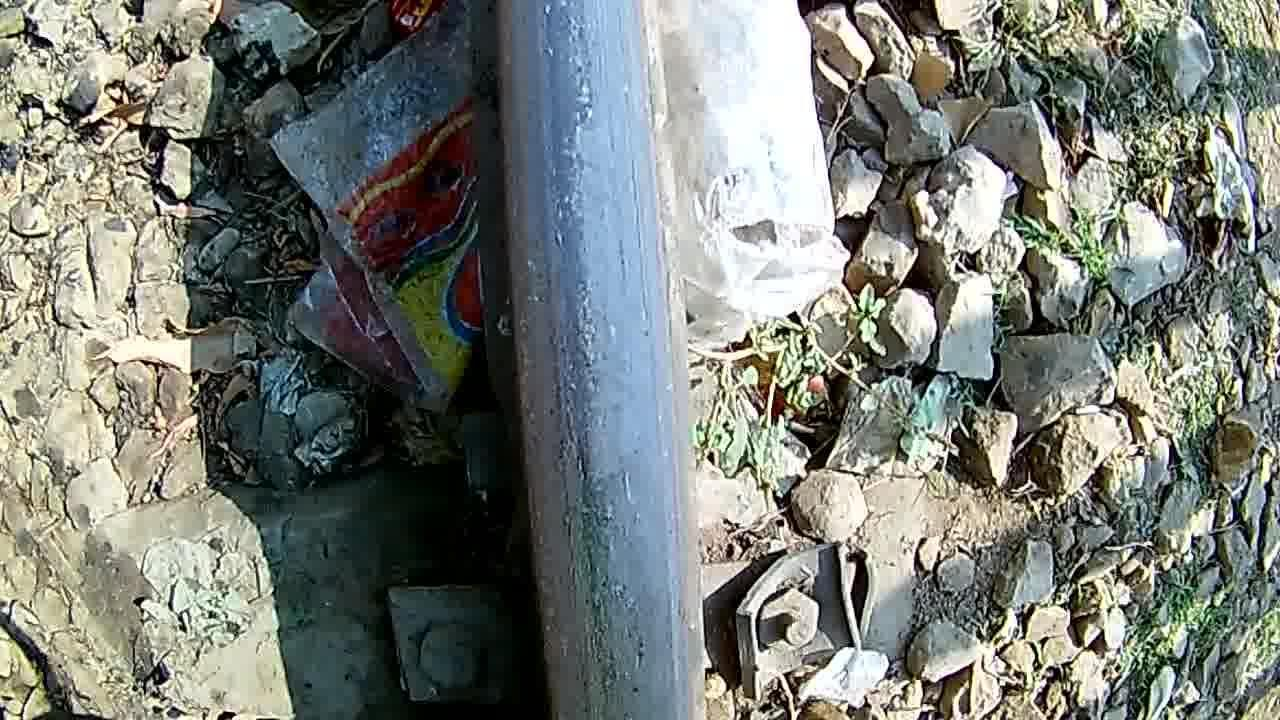crack: (518, 0, 669, 720)
